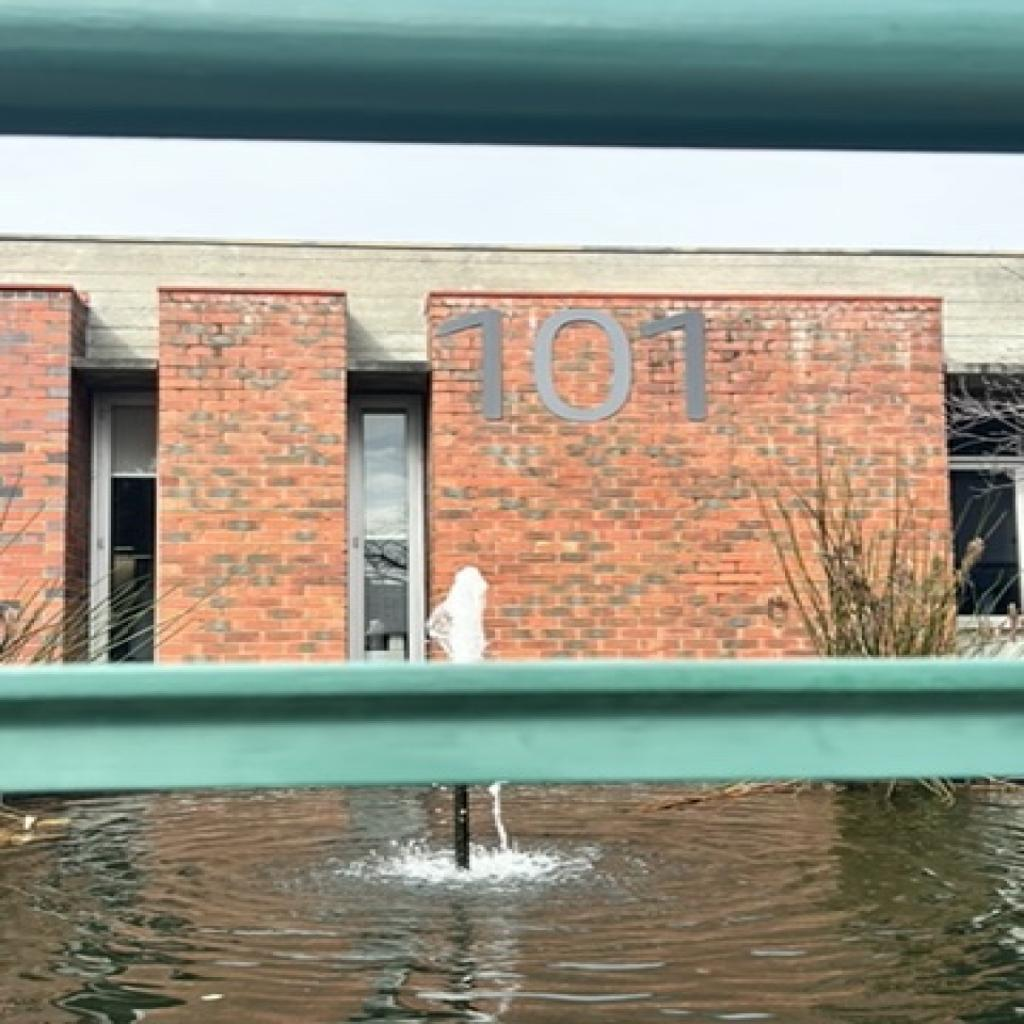BuildingCodes: (430, 306, 712, 422)
